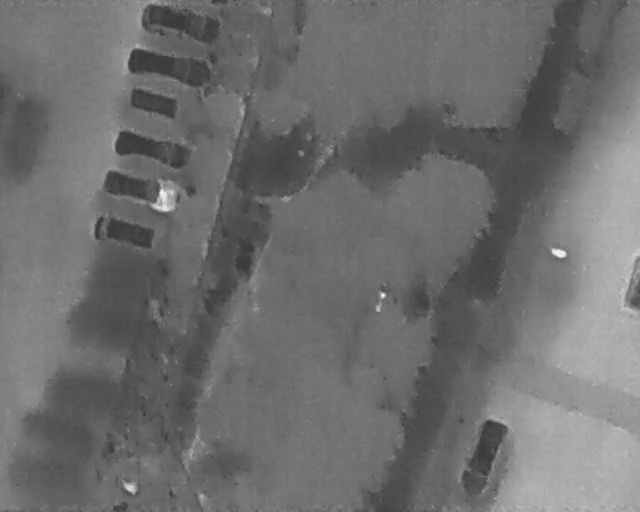Car: (454, 414, 513, 501), (123, 41, 215, 93), (99, 165, 183, 214), (139, 0, 224, 48), (112, 126, 195, 172), (90, 211, 157, 252), (621, 253, 640, 316)
